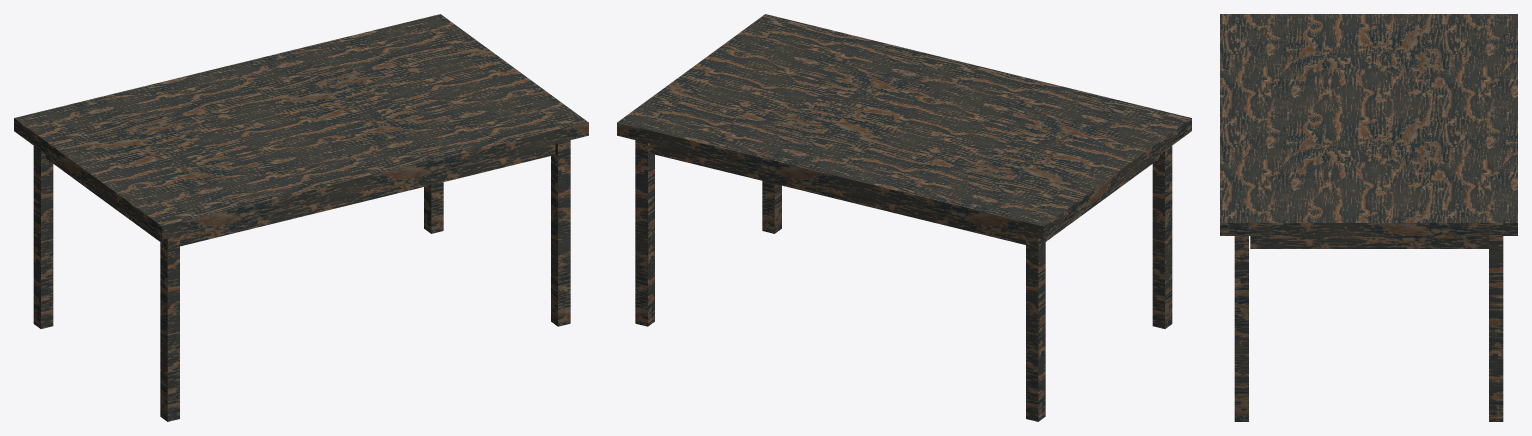
Rendered from Desk.glb.
3 views of the same model, side by side, from view 1: azimuth 30°, elevation 25°; view 2: azimuth 150°, elevation 25°; view 3: azimuth 270°, elevation 25° (orthographic).
Parts seen in each view (by area): view 1: Node; view 2: Node; view 3: Node.
Boxes of the visible parts, bbox=[...] form: Node: bbox=[14, 14, 588, 421]; Node: bbox=[617, 14, 1191, 421]; Node: bbox=[1220, 14, 1517, 421].
Size of the model in its own units: 1.71 by 0.78 by 1.03.
2 materials, 1 textured.
